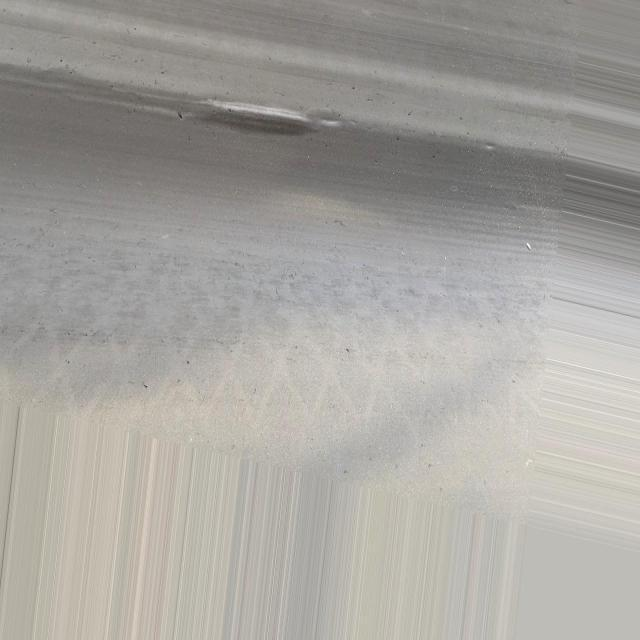Impact Damage: (181, 96, 365, 146)
